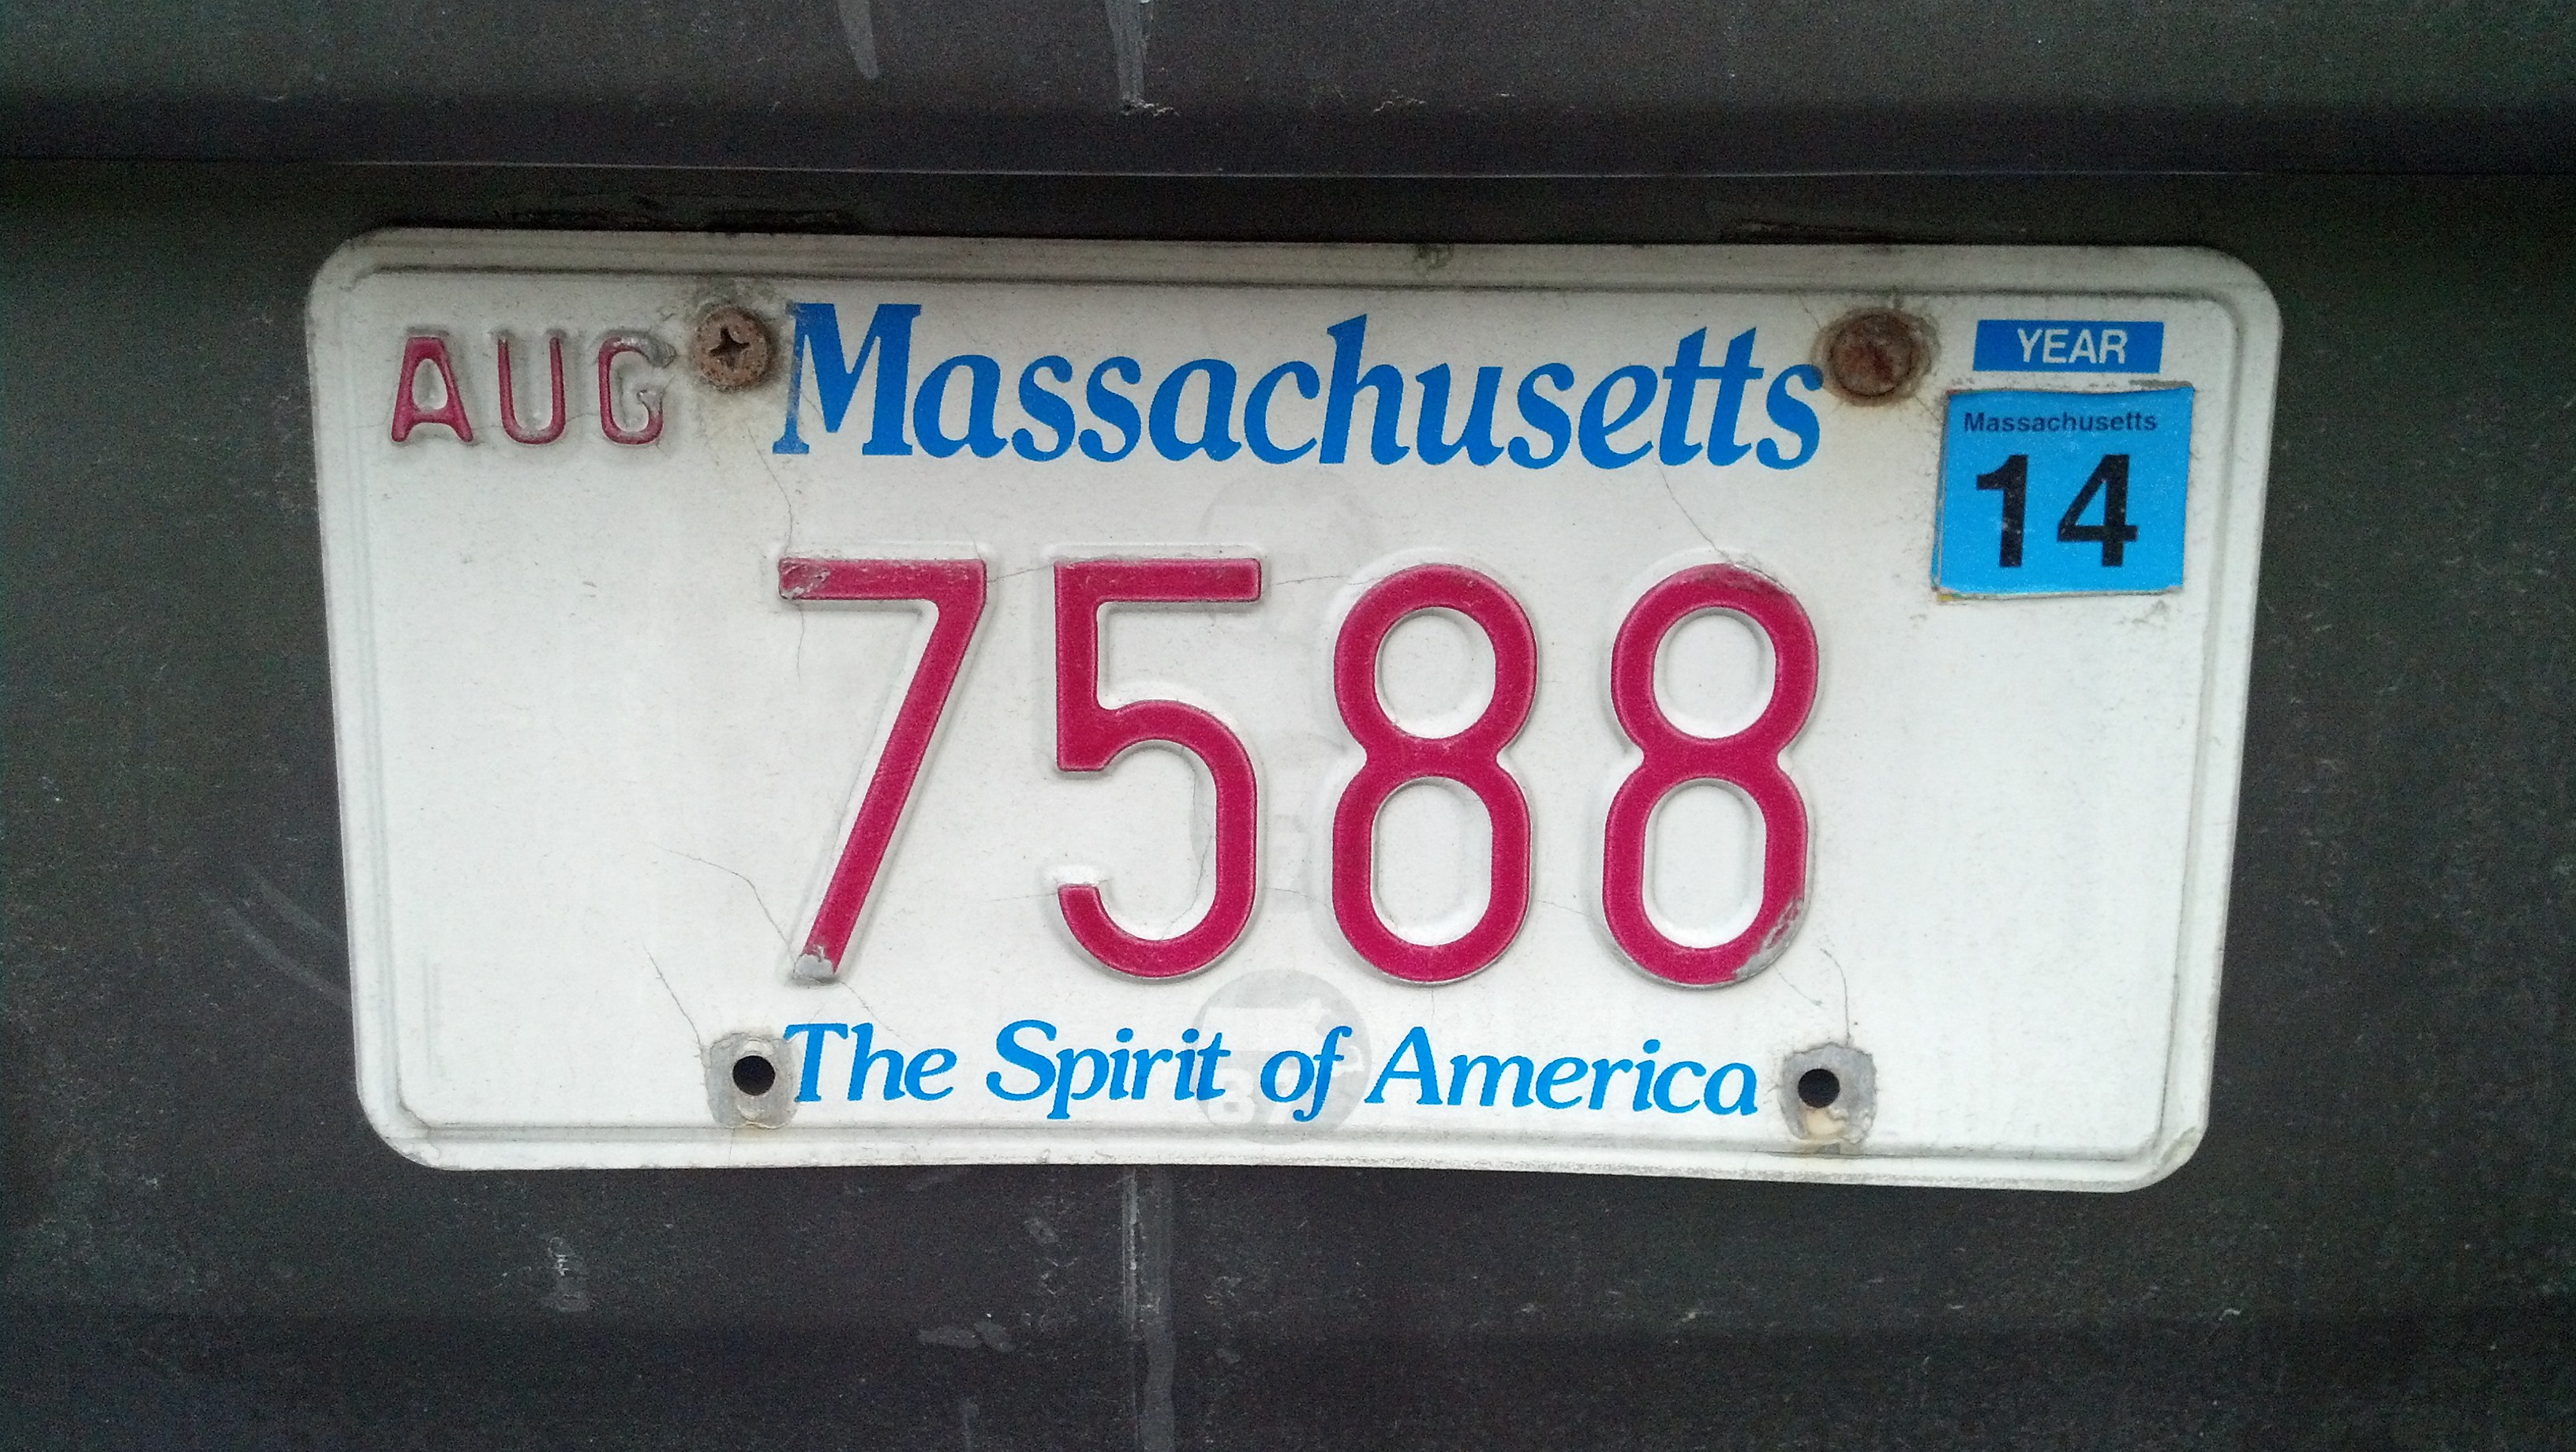license plate: (280, 218, 2259, 1243)
